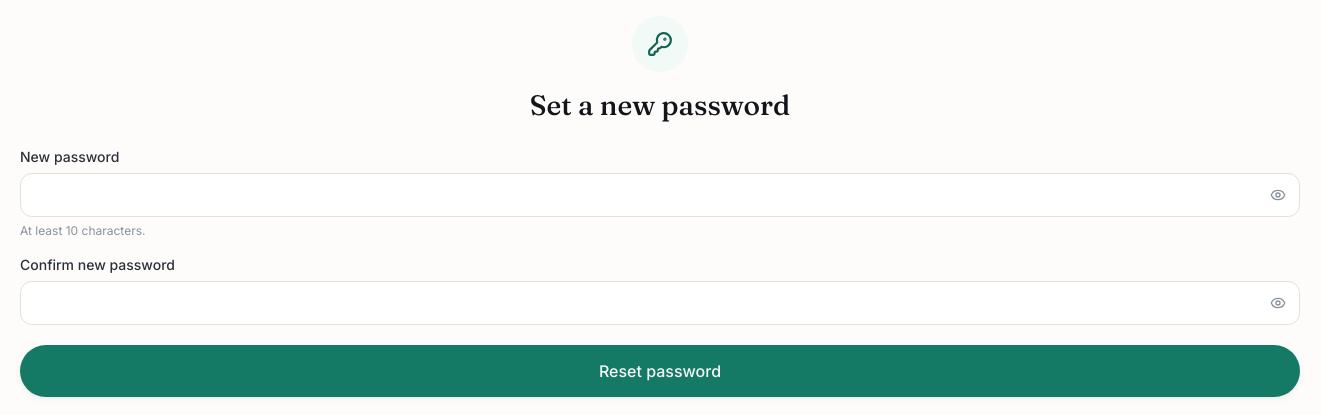
ResetPasswordView › shows the generic invalid-or-expired state for TOKEN_INVALID
The image size is (1321, 415).
Step 1. Type "brandnewpassword" into the password field labelled "New password" → (660, 195), box [20,173,1300,217]
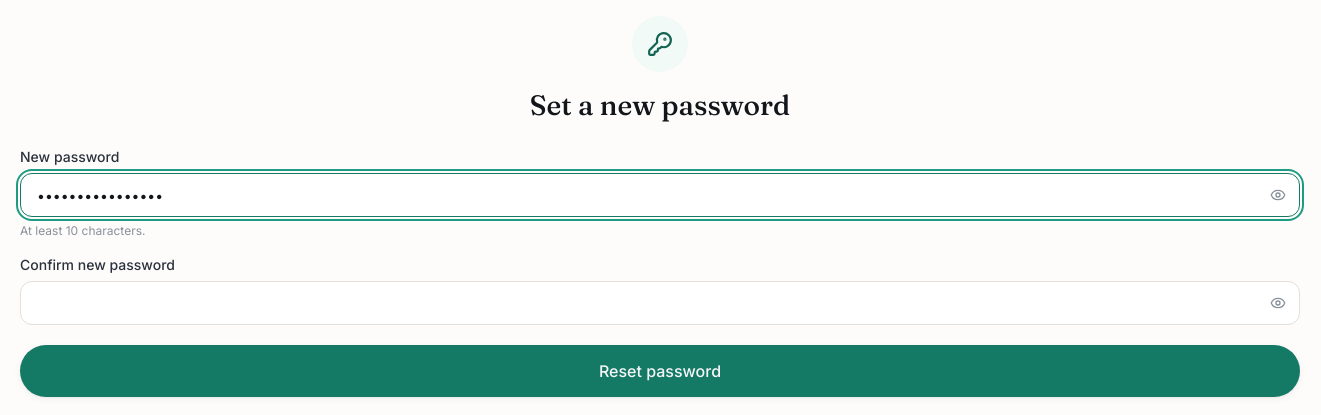
Step 2. Type "brandnewpassword" into the password field labelled "Confirm new password" → (660, 303), box [20,281,1300,325]
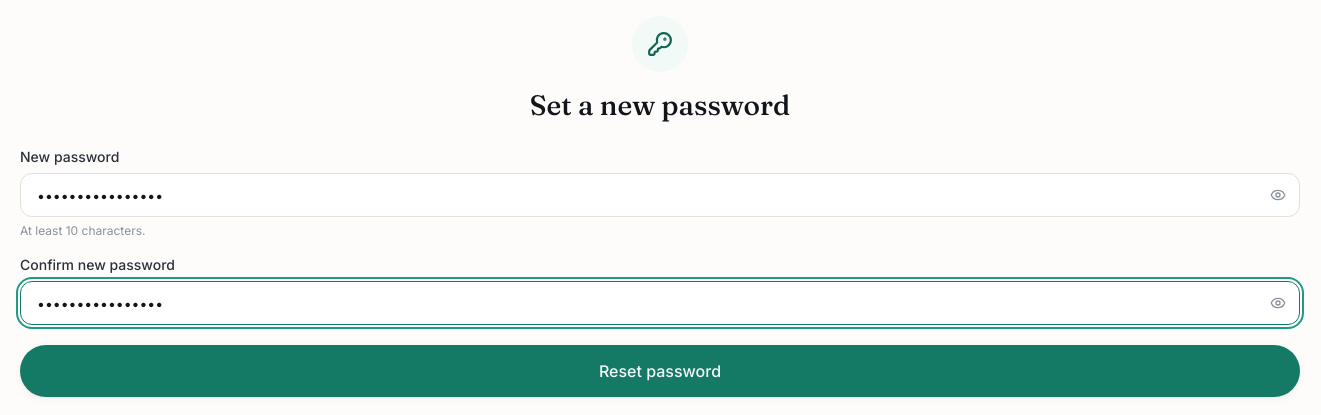
Step 3. Click the button "Reset password" → (660, 371), box [20,345,1300,397]
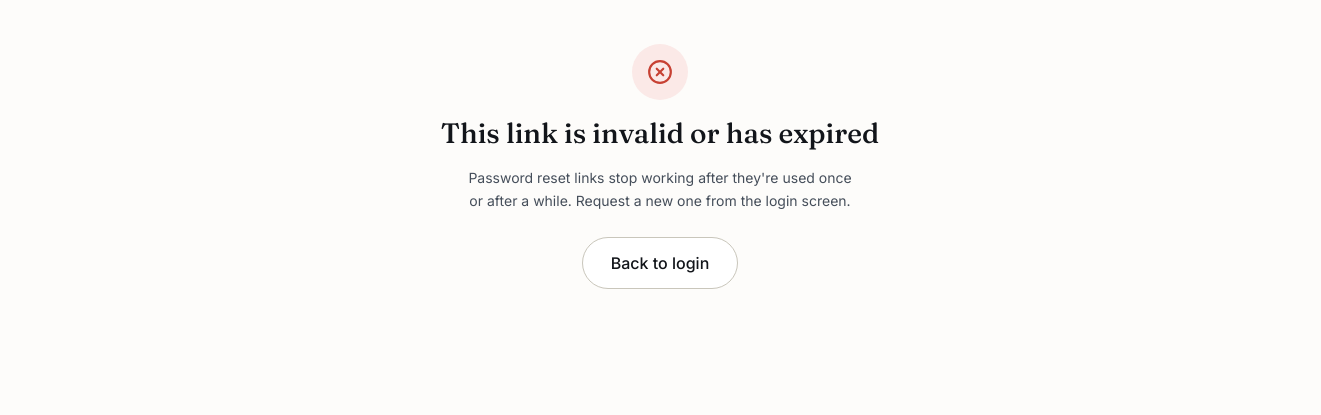
Check: the heading "This link is invalid or has expired" is shown, box [441,116,879,151]
